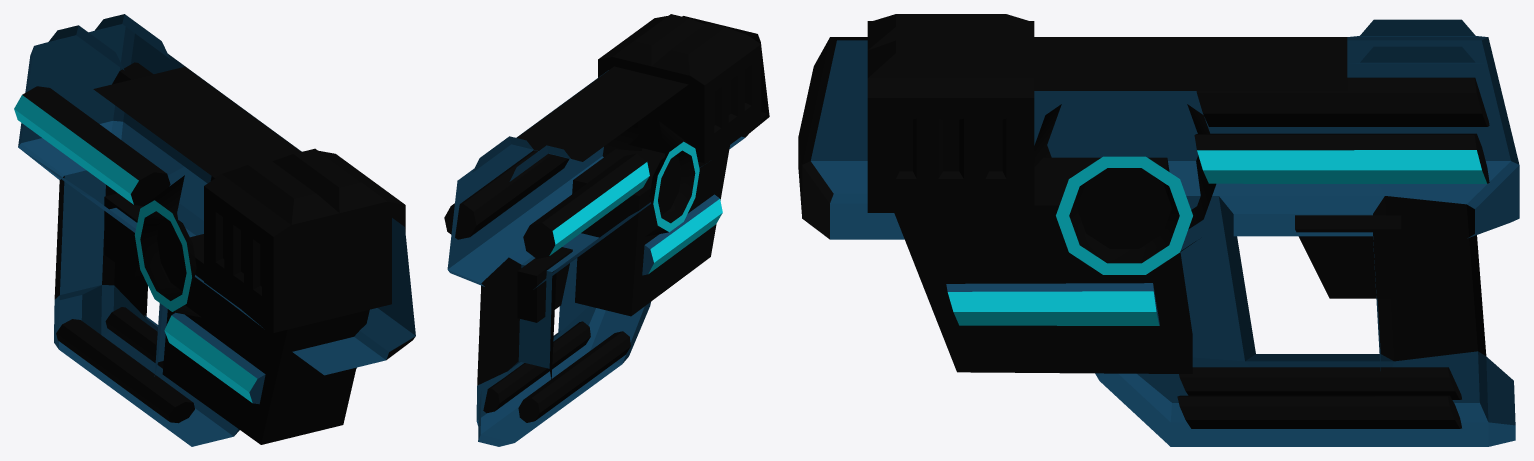
File: scifi_pistol1.glb
3 views of the same model, side by side, from view 1: azimuth 30°, elevation 25°; view 2: azimuth 150°, elevation 25°; view 3: azimuth 270°, elevation 25° (orthographic). The views are drawn at different scales.
Parts seen in each view (by area): view 1: scifi_pistol; view 2: scifi_pistol; view 3: scifi_pistol.
Boxes of the visible parts, bbox=[...] form: scifi_pistol: bbox=[14, 14, 415, 446]; scifi_pistol: bbox=[444, 14, 769, 446]; scifi_pistol: bbox=[798, 14, 1519, 446].
Size of the model in its own units: 2.04 by 4.75 by 7.74.
